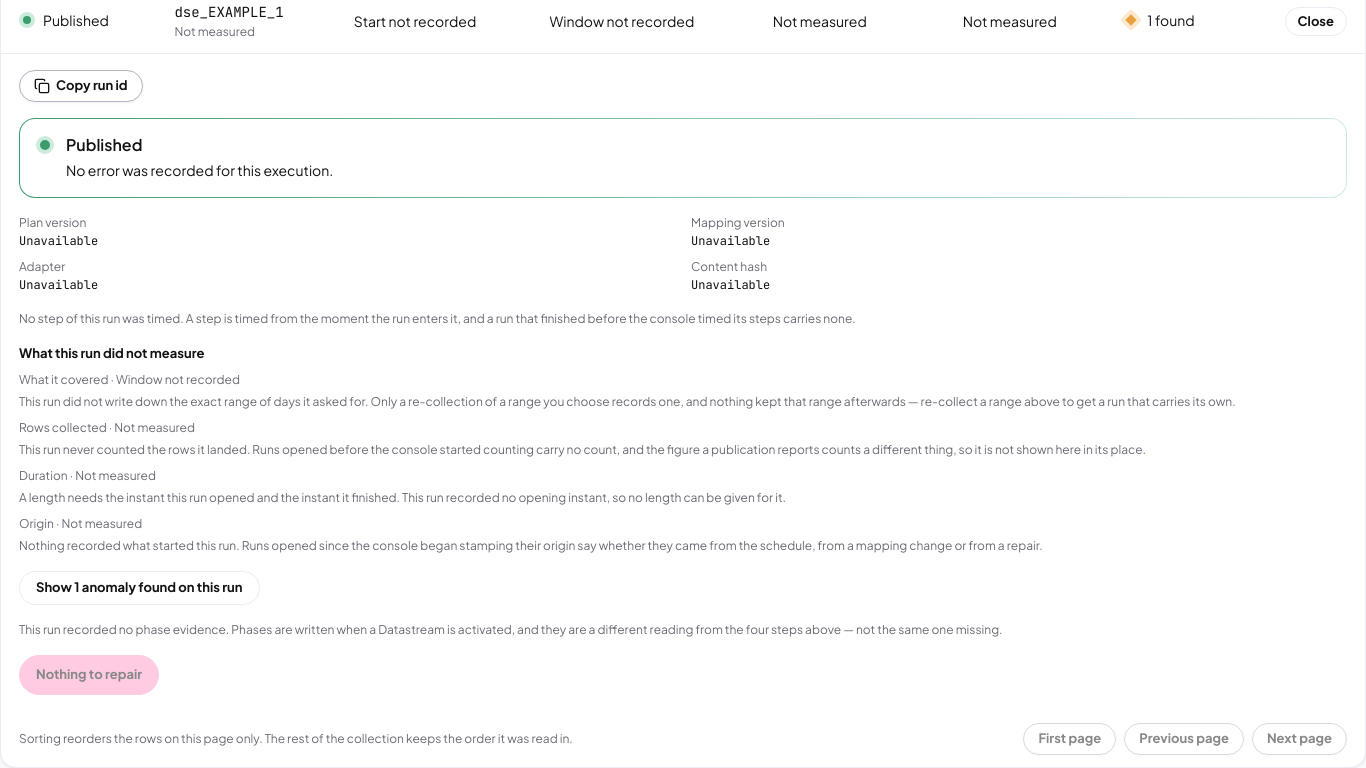
Test: Runs tab — the anomaly panel, story 59.1 › Mark as reviewed reaches the new route and shows the status the server read back
(page scrolled)
What coordinates should you click on to do the following:
click the button with test id "run-anomalies-trigger"
I would click on:
 (139, 588)
Its box is [19, 571, 260, 605].
(page scrolled)
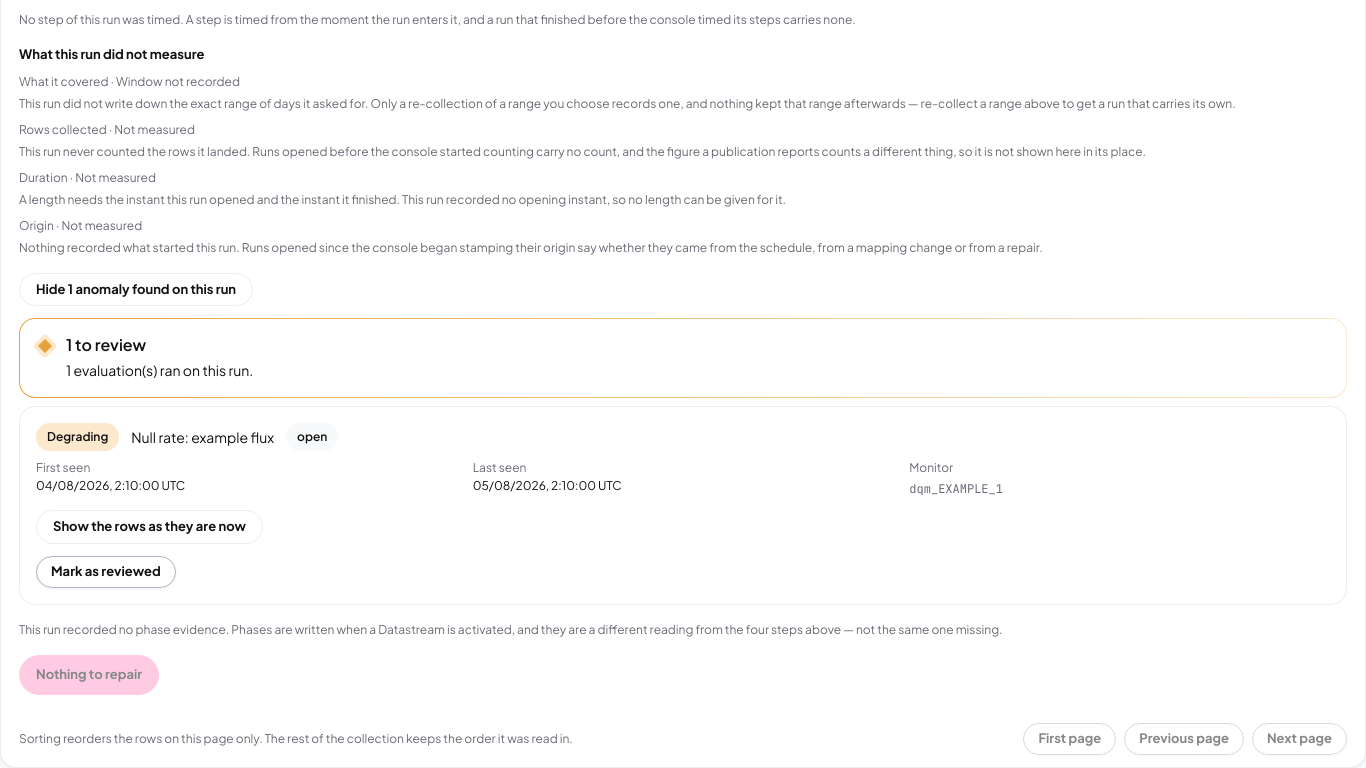
What coordinates should you click on to do the following:
click the button with test id "run-anomaly-acknowledge"
I would click on:
 (106, 572)
Its box is [36, 556, 176, 588].
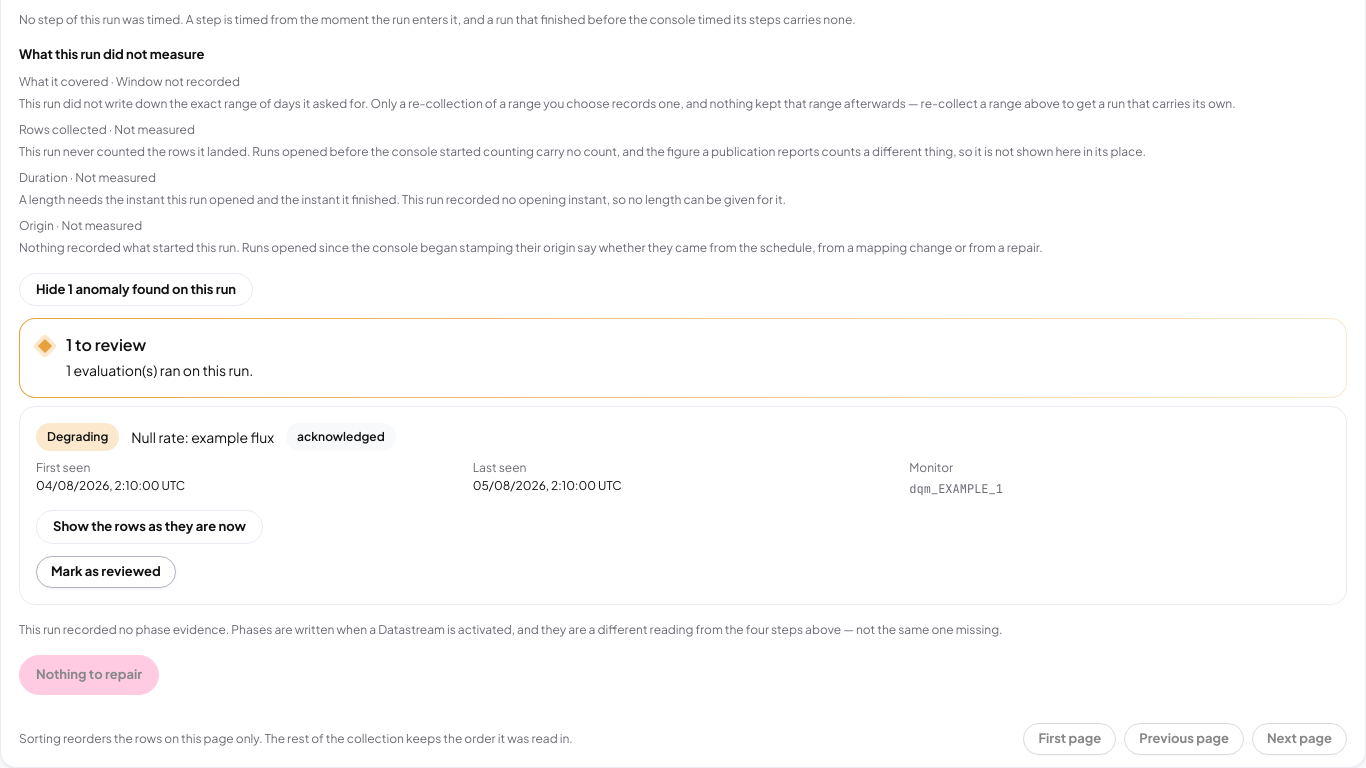
Expected: the text with test id "run-anomaly-status" reads "acknowledged", [297, 429, 385, 444]
